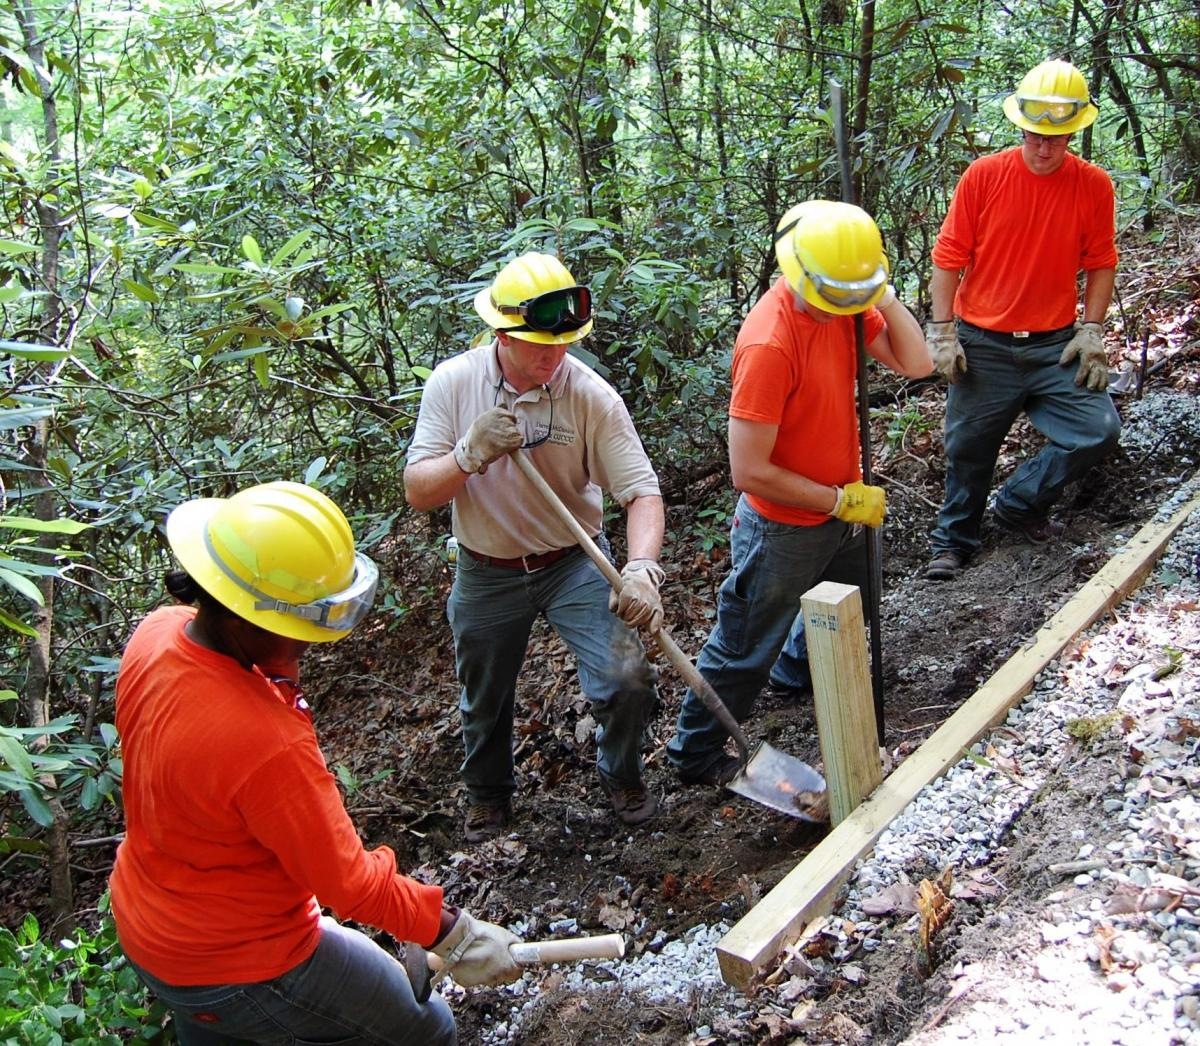epi: (103, 476, 478, 1032), (403, 250, 689, 824), (691, 198, 928, 782), (921, 56, 1121, 574)
